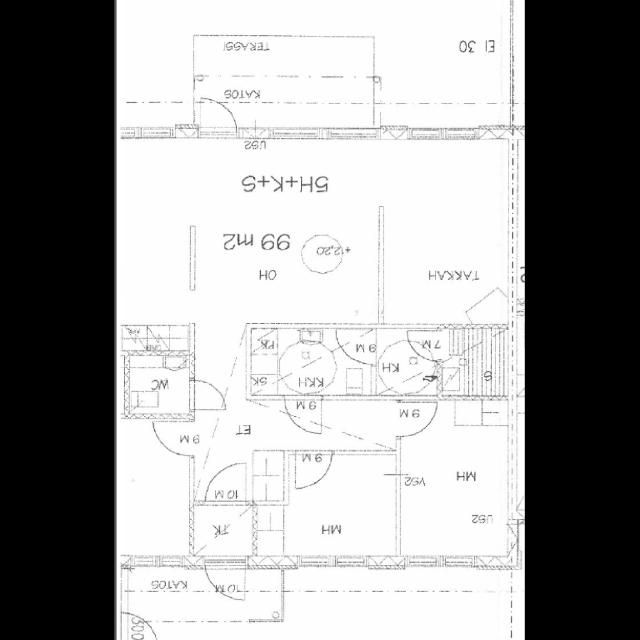door: (205, 459, 251, 501), (197, 95, 238, 135), (187, 377, 227, 413)
zone: (392, 407, 513, 562), (283, 453, 399, 562), (118, 416, 196, 562), (249, 330, 376, 397), (375, 329, 450, 396), (440, 328, 508, 400), (122, 353, 193, 420), (190, 503, 254, 563), (150, 422, 192, 456)
